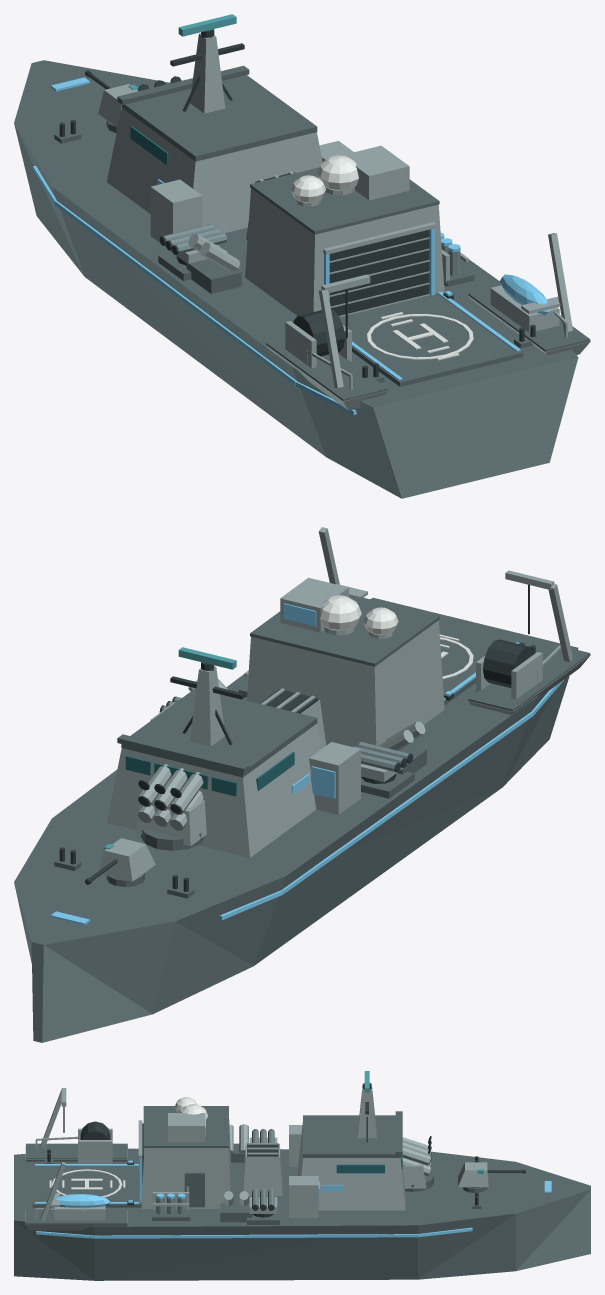
File: ESC_ASW_T3.fbx
The picture shows the model from 3 angles, top to bottom: view 1: azimuth 30°, elevation 25°; view 2: azimuth 150°, elevation 25°; view 3: azimuth 270°, elevation 25°; orthographic projection. The views are drawn at different scales.
Parts seen in each view (by area): view 1: ContinuousHull.006, Deckhouse.006, HelicopterHangar.001, HelicopterDeck.002, Roof.006, AftFacingHangarDoor.001, HangarRoof.001, AcousticProcessingCabinet, AcousticControlCabinet, ASWWorkingDeck, NavMast.002, ASWWorkingDeck.001 (+16 smaller); view 2: ContinuousHull.006, HelicopterHangar.001, Deckhouse.006, Roof.006, HangarRoof.001, AcousticProcessingCabinet, HelicopterDeck.002, ASWWorkingDeck, NavMast.002, AcousticControlCabinet, PrimaryGunCupola.006, RoleHullStripe-1_1.006 (+10 smaller); view 3: ContinuousHull.006, Deckhouse.006, HelicopterHangar.001, Roof.006, HelicopterDeck.002, HangarRoof.001, FunnelEnclosure.006, RoleHullStripe1_1.006, AcousticProcessingCabinet.001, ASWWorkingDeck, AcousticControlCabinet, ASWWorkingDeck.001 (+20 smaller).
Part boxes in pixels (x1,y1,x2,y2): ContinuousHull.006: (14,60,578,498); Deckhouse.006: (107,108,322,233); HelicopterHangar.001: (245,188,444,315); HelicopterDeck.002: (340,292,523,386); Roof.006: (121,75,317,161); AftFacingHangarDoor.001: (329,230,429,315); HangarRoof.001: (250,167,439,234); AcousticProcessingCabinet: (150,179,202,246); AcousticControlCabinet: (341,145,409,200); ASWWorkingDeck: (266,338,387,401); NavMast.002: (190,33,225,113); ASWWorkingDeck.001: (468,288,590,351); ContinuousHull.006: (14,597,578,1042); HelicopterHangar.001: (247,620,444,747); Deckhouse.006: (107,723,321,857); Roof.006: (121,688,317,777); HangarRoof.001: (250,594,439,666); AcousticProcessingCabinet: (309,742,360,814); HelicopterDeck.002: (439,623,516,705); ASWWorkingDeck: (468,642,590,711); NavMast.002: (189,666,224,746); AcousticControlCabinet: (280,577,348,632); PrimaryGunCupola.006: (99,838,155,881); RoleHullStripe-1_1.006: (281,712,533,894); ContinuousHull.006: (14,1148,590,1280); Deckhouse.006: (298,1122,405,1210); HelicopterHangar.001: (141,1119,231,1208); Roof.006: (303,1115,400,1157); HelicopterDeck.002: (32,1165,141,1207); HangarRoof.001: (143,1106,228,1147); FunnelEnclosure.006: (243,1144,282,1195); RoleHullStripe1_1.006: (94,1234,417,1238); AcousticProcessingCabinet.001: (289,1176,318,1217); ASWWorkingDeck: (26,1143,127,1159); AcousticControlCabinet: (168,1113,204,1142); ASWWorkingDeck.001: (26,1209,127,1224).
Size of the model in its own units: 294 by 297 by 900.
